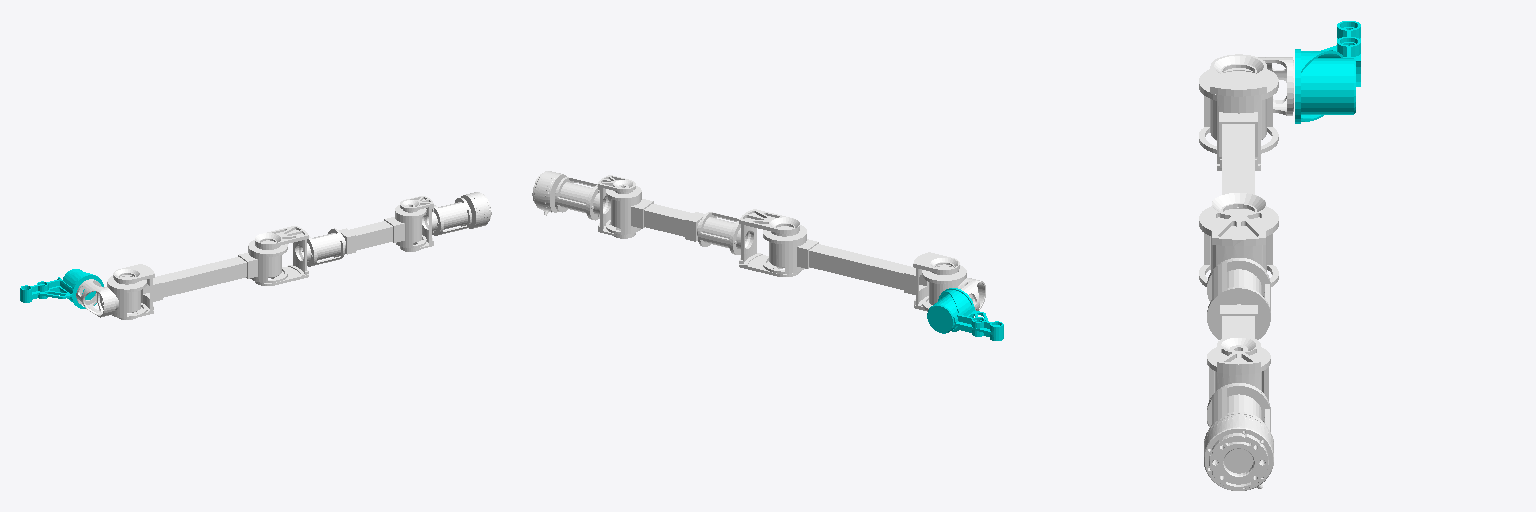
URDF robot description (single_arm):
<?xml version="1.0" ?>
<robot name="single_arm">
  <link name="base_link">
    <inertial>
      <origin rpy="0 0 0" xyz="0.085427 -0.025518 0"/>
      <mass value="0.960"/>
      <inertia ixx="0.000648473" ixy="-0.001018876" ixz="0.000012959" iyy="0.002674366" iyz="0" izz="0.003031056"/>
    </inertial>
    <!--重心:(毫米)	X = 85.427 Y = -25.518 Z = -0.131
    惯性张量: (千克*平方毫米)由重心决定，并且对齐输出的坐标系。Lxx = 648.473	Lxy = -1018.876	Lxz = 12.959 Lyy = 2674.366	Lyz = 0.781	Lzz = 3031.056-->
    <visual>
      <origin rpy="0 0 0" xyz="0 0 0"/>
      <geometry>
        <mesh filename="package://robot_3dros/meshes/Link_0.STL"/>
      </geometry>
      <material name="">
        <color rgba="0 1 1 1"/>
      </material>
    </visual>
    <!--collision>
      <origin xyz="0 0 0" rpy="0 0 0" />
      <geometry> <mesh filename="package://robot_3dros/meshes/Link_0.STL" /> </geometry>
    </collision-->
  </link>
  <link name="Link1_1">
    <inertial>
      <origin rpy="0 0 0" xyz="0.052469 -0.009040 0.002060"/>
      <mass value="0.914"/>
      <inertia ixx="0.000671687" ixy="-0.000084224" ixz="-0.000107815" iyy="0.000786758" iyz="0.000017298" izz="0.000958254"/>
    </inertial>
    <!--重心:(毫米)	X = 52.469 Y = -9.040	Z = 2.060
    惯性张量:(千克*平方毫米)由重心决定，并且对齐输出的坐标系。Lxx = 671.687	Lxy = -84.224	Lxz = -107.815 Lyy = 786.758 Lyz = 17.298	Lzz = 958.254-->
    <visual>
      <origin rpy="0 0 0" xyz="0 0 0"/>
      <geometry>
        <mesh filename="package://robot_3dros/meshes/Link_1.STL"/>
      </geometry>
      <material name="">
        <color rgba="1 1 1 1"/>
      </material>
    </visual>
    <!--collision>
      <origin xyz="0 0 0" rpy="0 0 0" />
      <geometry> <mesh filename="package://robot_3dros/meshes/Link_1.STL" /> </geometry>
    </collision-->
  </link>
  <joint name="Joint1_1" type="revolute">
    <origin rpy="-1.5707963267948966 0 0" xyz="0.12 -0.117 0"/>
    <parent link="base_link"/>
    <child link="Link1_1"/>
    <axis xyz="0 0 1"/>
    <dynamics damping="0.2" friction="0.5"/>
    <limit effort="300" lower="-2.356194490192345" upper="4.71238898038469" velocity="10"/>
  </joint>
  <link name="Link1_2">
    <inertial>
      <origin rpy="0 0 0" xyz="0.273270 0.000006 0.007530"/>
      <mass value="1.144"/>
      <inertia ixx="0.000909959" ixy="0" ixz="0.000569994" iyy="0.018834040" iyz="0" izz="0.018336908"/>
    </inertial>
    <!--重心:(毫米)	X = 273.270	Y = 0.006	Z = 7.530
    惯性张量:(千克*平方毫米)由重心决定，并且对齐输出的坐标系。Lxx = 909.959	Lxy = 0.824	Lxz = 569.994	Lyy = 18834.040	Lyz = 0.056	Lzz = 18336.908-->
    <visual>
      <origin rpy="0 0 0" xyz="0 0 0"/>
      <geometry>
        <mesh filename="package://robot_3dros/meshes/Link_2.STL"/>
      </geometry>
      <material name="">
        <color rgba="1 1 1 1"/>
      </material>
    </visual>
    <collision>
      <origin rpy="0 1.5707963267948966 0" xyz="0.155 0 0"/>
      <geometry>
        <cylinder length="0.3" radius="0.02"/>
      </geometry>
      <!--geometry> <mesh filename="package://robot_3dros/meshes/Link_2.STL" /> </geometry-->
    </collision>
  </link>
  <joint name="Joint1_2" type="revolute">
    <origin rpy="1.5707963267948966 0 0" xyz="0.0625 -0.0025 0"/>
    <parent link="Link1_1"/>
    <child link="Link1_2"/>
    <axis xyz="0 0 1"/>
    <dynamics damping="0.2" friction="0.5"/>
    <limit effort="300" lower="-2.0943951023931953" upper="1.5707963267948966" velocity="10"/>
  </joint>
  <link name="Link1_3">
    <inertial>
      <origin rpy="0 0 0" xyz="0.081336 -0.0003 -0.000693"/>
      <mass value="0.395"/>
      <inertia ixx="0.000576423" ixy="0" ixz="0.000031283" iyy="0.001662107" iyz="0" izz="0.001334389"/>
    </inertial>
    <!--重心:(毫米)	X = 81.336 Y = -0.003	Z = -0.693
    惯性张量:(千克*平方毫米)由重心决定，并且对齐输出的坐标系。Lxx = 576.423	Lxy = -0.053 Lxz = 31.283 Lyy = 1662.107	Lyz = -0.009 Lzz = 1334.389-->
    <visual>
      <origin rpy="0 0 0" xyz="0 0 0"/>
      <geometry>
        <mesh filename="package://robot_3dros/meshes/Link_3.STL"/>
      </geometry>
      <material name="">
        <color rgba="1 1 1 1"/>
      </material>
    </visual>
    <collision>
      <origin rpy="0 1.5707963267948966 0" xyz="0.16 0 0"/>
      <geometry>
        <cylinder length="0.2" radius="0.02"/>
      </geometry>
      <!--geometry> <mesh filename="package://robot_3dros/meshes/Link_3.STL" /> </geometry-->
    </collision>
  </link>
  <joint name="Joint1_3" type="revolute">
    <origin rpy="-3.141592653589793 0 0" xyz="0.35 0.0002 0"/>
    <parent link="Link1_2"/>
    <child link="Link1_3"/>
    <axis xyz="0 0 1"/>
    <dynamics damping="0.2" friction="0.5"/>
    <limit effort="300" lower="-2.530727415391778" upper="2.530727415391778" velocity="10"/>
  </joint>
  <link name="Link1_4">
    <inertial>
      <origin rpy="0 0 0" xyz="0.005438 0.000120 0.134002"/>
      <mass value="0.376"/>
      <inertia ixx="0.0001484574" ixy="0" ixz="0.000099045" iyy="0.001658464" iyz="-0.000002871" izz="0.000360737"/>
    </inertial>
    <!--重心:(毫米)	X = 5.438	Y = 0.120	Z = 134.002
    惯性张量:(千克*平方毫米)由重心决定，并且对齐输出的坐标系。Lxx = 1484.574	Lxy = -0.250 Lxz = 99.045 Lyy = 1658.464 Lyz = -2.871 Lzz = 360.737-->
    <visual>
      <origin rpy="0 0 0" xyz="0 0 0"/>
      <geometry>
        <mesh filename="package://robot_3dros/meshes/Link_4.STL"/>
      </geometry>
      <material name="">
        <color rgba="1 1 1 1"/>
      </material>
    </visual>
    <!--collision>
      <origin xyz="0 0 0.08" rpy="0 0 0" />
      <geometry> <mesh filename="package://robot_3dros/meshes/Link_4.STL" /> </geometry>
    </collision-->
  </link>
  <joint name="Joint1_4" type="revolute">
    <origin rpy="0 -1.5707963267948966 -3.141592653589793" xyz="0.1745 0 0"/>
    <parent link="Link1_3"/>
    <child link="Link1_4"/>
    <axis xyz="0 0 1"/>
    <dynamics damping="0.2" friction="0.5"/>
    <limit effort="100" lower="-3.141592653589793" upper="3.141592653589793" velocity="10"/>
  </joint>
  <link name="Link1_5">
    <inertial>
      <origin rpy="0 0 0" xyz="0.058277 0 -0.001068"/>
      <mass value="0.327"/>
      <inertia ixx="0.000412080" ixy="0" ixz="0.000002889" iyy="0.000943104" iyz="0" izz="0.000708641"/>
    </inertial>
    <!--重心:(毫米)	X = 58.277 Y = 0.004 Z = -1.068
        惯性张量:(千克*平方毫米)由重心决定，并且对齐输出的坐标系。Lxx = 412.080	Lxy = 0.032	Lxz = 2.889	Lyy = 943.104	Lyz = -0.003 Lzz = 708.641-->
    <visual>
      <origin rpy="0 0 0" xyz="0 0 0"/>
      <geometry>
        <mesh filename="package://robot_3dros/meshes/Link_5.STL"/>
      </geometry>
      <material name="">
        <color rgba="1 1 1 1"/>
      </material>
    </visual>
    <!--collision>
      <origin xyz="0.08 0 0" rpy="0 0 0" />
      <geometry> <mesh filename="package://robot_3dros/meshes/Link_5.STL" /> </geometry>
    </collision-->
  </link>
  <joint name="Joint1_5" type="revolute">
    <origin rpy="3.141592653589793 -1.5707963267948966 0" xyz="0 0 0.1795"/>
    <parent link="Link1_4"/>
    <child link="Link1_5"/>
    <axis xyz="0 0 1"/>
    <dynamics damping="0.2" friction="0.5"/>
    <limit effort="100" lower="-1.9198621771937623" upper="1.9198621771937623" velocity="10"/>
  </joint>
  <link name="Link1_6">
    <inertial>
      <origin rpy="0 0 0" xyz="-0.000076 -0.001467 0.088450"/>
      <mass value="0.366"/>
      <inertia ixx="0.000945510" ixy="-0.000011196" ixz="0" iyy="0.000811306" iyz="-0.000011704" izz="0.000402389"/>
    </inertial>
    <!--重心:(毫米)	X = -0.094 Y = -1.809 Z = 70.443
    惯性张量:(千克*平方毫米)由重心决定，并且对齐输出的坐标系。Lxx = 945.510	Lxy = -11.196	Lxz = -0.115	Lyy = 811.306	Lyz = -11.704	Lzz = 402.389-->
    <visual>
      <origin rpy="0 0 0" xyz="0 0 0"/>
      <geometry>
        <mesh filename="package://robot_3dros/meshes/Link_6.STL"/>
      </geometry>
      <material name="">
        <color rgba="1 1 1 1"/>
      </material>
    </visual>
    <collision>
      <origin rpy="0 0 0" xyz="0 0 -0.06"/>
      <geometry>
        <cylinder length="0.1" radius="0.02"/>
      </geometry>
      <!--geometry> <mesh filename="package://robot_3dros/meshes/Link_6.STL" /> </geometry-->
    </collision>
  </link>
  <joint name="Joint1_6" type="revolute">
    <origin rpy="3.141592653589793 -1.5707963267948966 0" xyz="0.141 0 0"/>
    <parent link="Link1_5"/>
    <child link="Link1_6"/>
    <axis xyz="0 0 1"/>
    <dynamics damping="0.2" friction="0.5"/>
    <limit effort="100" lower="-3.141592653589793" upper="3.141592653589793" velocity="10"/>
  </joint>
</robot>

--- What the picture shows (computed from the rendered views, not written in the file) ---
3 views of the same robot in one strip: view 1: azimuth 30°, elevation 25°; view 2: azimuth 150°, elevation 25°; view 3: azimuth 270°, elevation 25° (orthographic).
Model single_arm with 7 links and 6 joints (6 revolute), rooted at base_link, posed every joint at zero.
Links seen in each view (by area): view 1: Link1_2, Link1_3, Link1_4, Link1_1, Link1_5, base_link, Link1_6; view 2: Link1_2, Link1_3, Link1_4, Link1_5, base_link, Link1_1, Link1_6; view 3: Link1_2, Link1_3, base_link, Link1_6, Link1_5, Link1_1, Link1_4.
Link boxes in pixels (<box>): Link1_2: <box>113,240,287,319</box>; Link1_3: <box>255,226,344,285</box>; Link1_4: <box>339,205,426,254</box>; Link1_1: <box>76,275,146,318</box>; Link1_5: <box>400,196,471,251</box>; base_link: <box>20,269,103,308</box>; Link1_6: <box>461,192,491,228</box>; Link1_2: <box>763,225,959,311</box>; Link1_3: <box>698,209,800,276</box>; Link1_4: <box>606,186,704,241</box>; Link1_5: <box>555,175,635,238</box>; base_link: <box>927,288,1003,340</box>; Link1_1: <box>922,264,985,310</box>; Link1_6: <box>532,171,566,215</box>; Link1_2: <box>1199,54,1278,286</box>; Link1_3: <box>1207,193,1270,339</box>; base_link: <box>1295,21,1360,123</box>; Link1_6: <box>1204,414,1273,490</box>; Link1_5: <box>1207,336,1270,431</box>; Link1_1: <box>1199,57,1293,153</box>; Link1_4: <box>1207,304,1270,425</box>.
Bounding box of the posed robot: 1.08 × 0.1725 × 0.104 m (x, y, z).
Meshes: 7 distinct files referenced, 7 mesh visuals loaded (7 binary STL).
